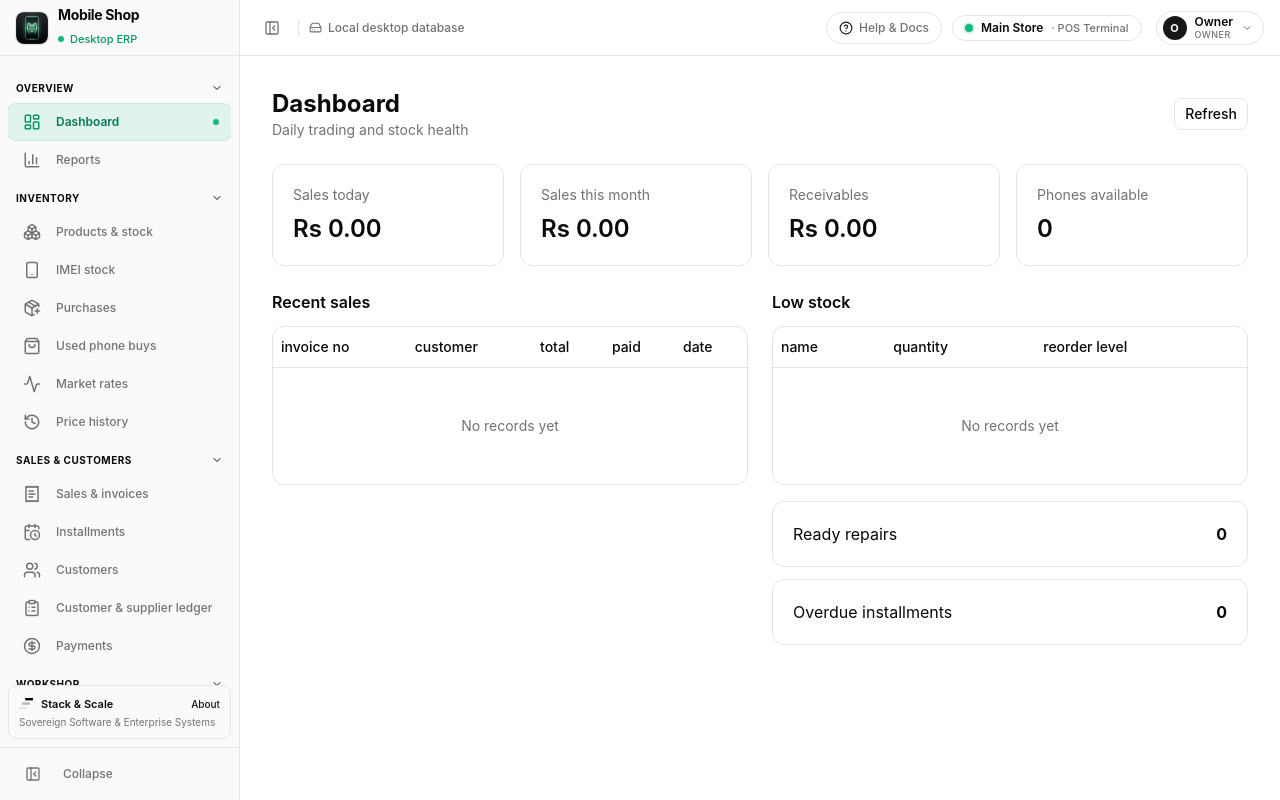
it: desktop interface › clears a customer ledger before switching to a supplier
Expected: the text "Sales today" is shown, [293,186,370,203]
Click the button "Customer & supplier ledger": [120, 608] box [8,590,231,626]
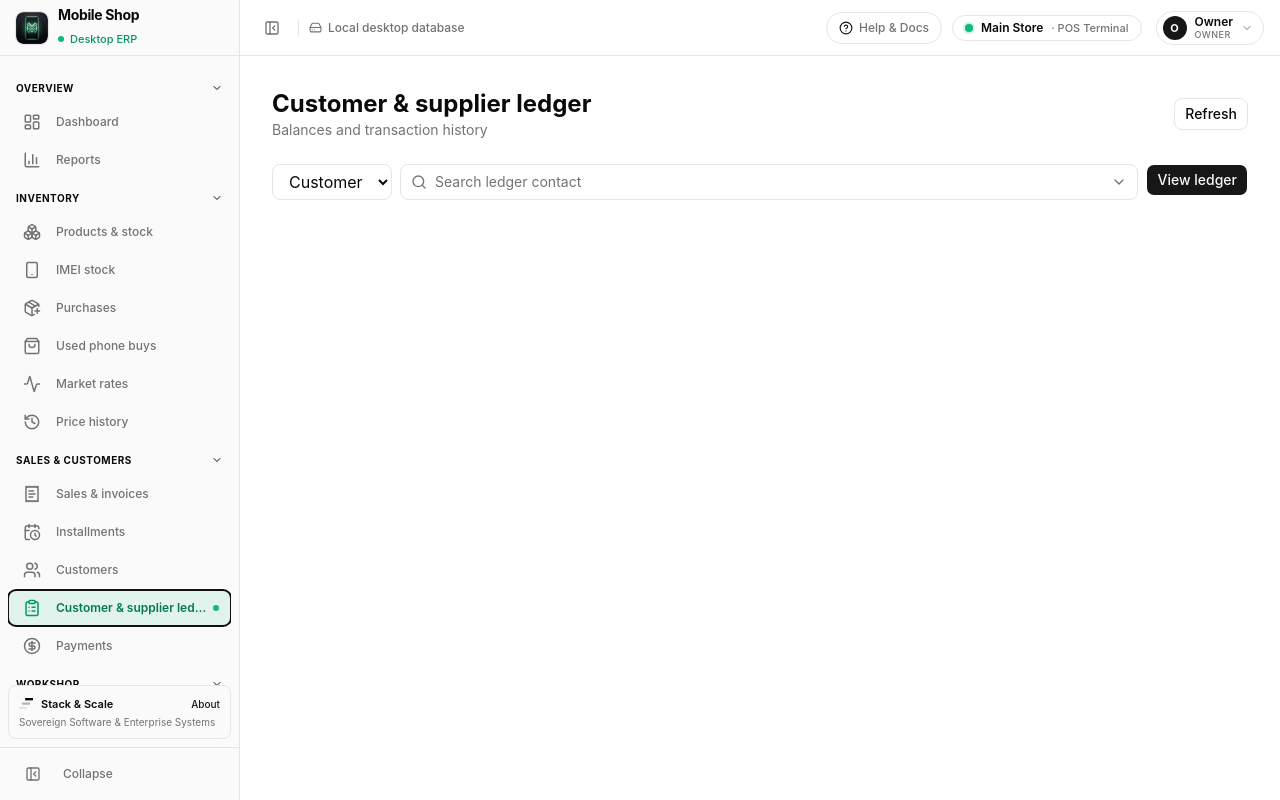
Click the dropdown labelled "ledger contact": [769, 182] box [435,172,1104,192]
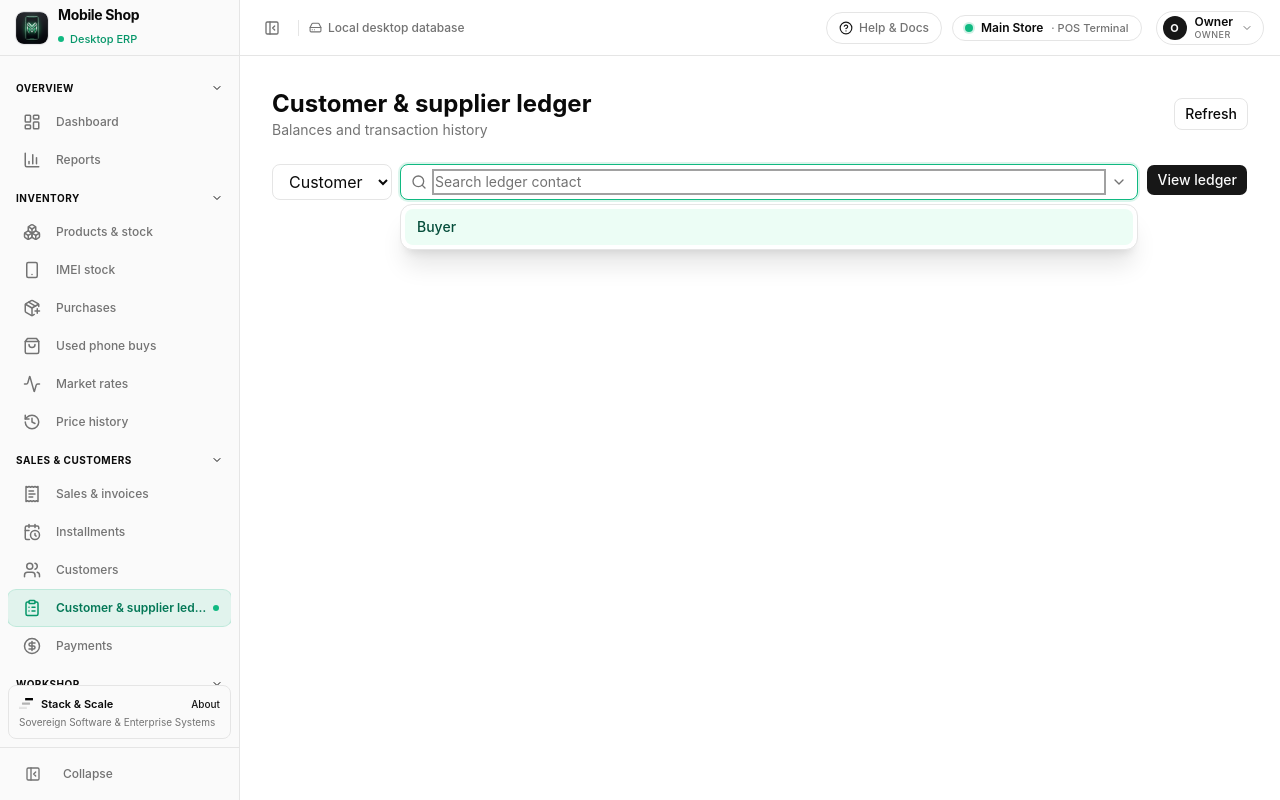
Click the option "Buyer": [437, 226] box [405,209,1134,245]
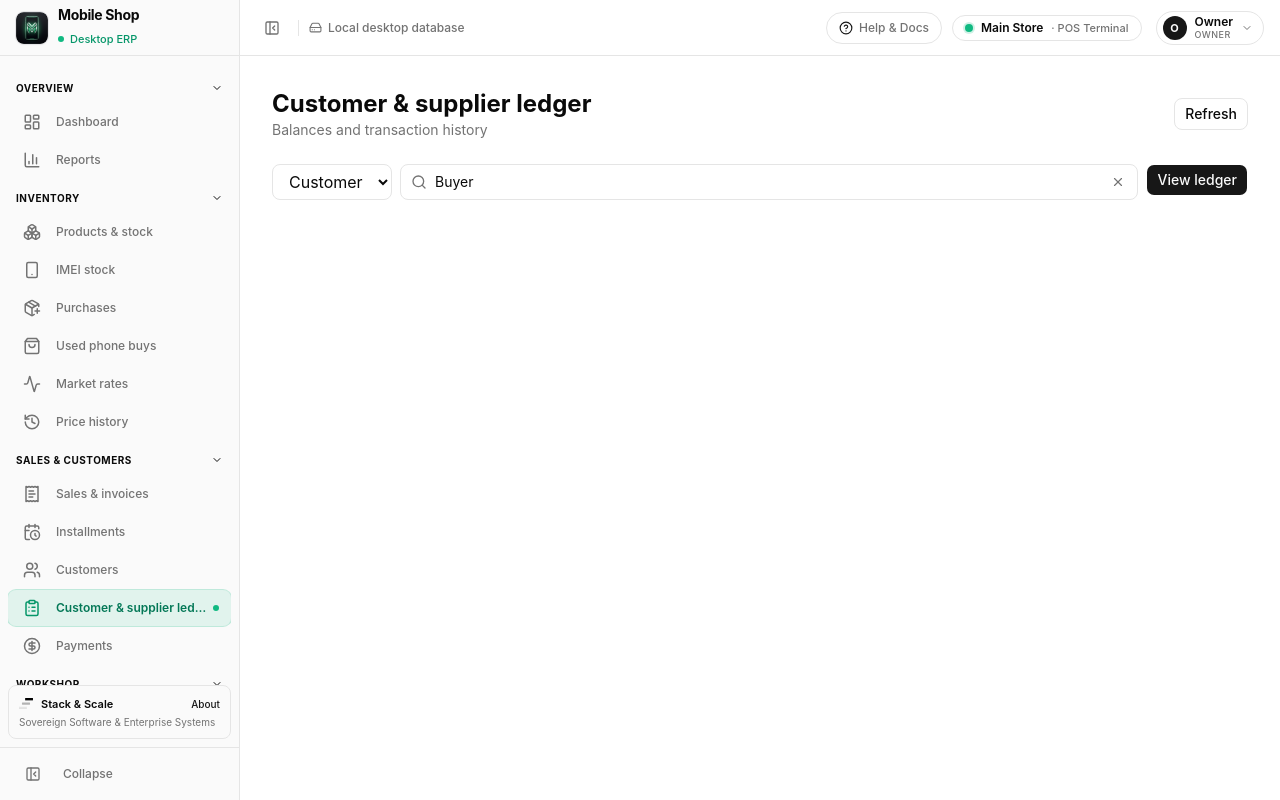
Click the button "View ledger": [1197, 180] box [1146,164,1248,196]
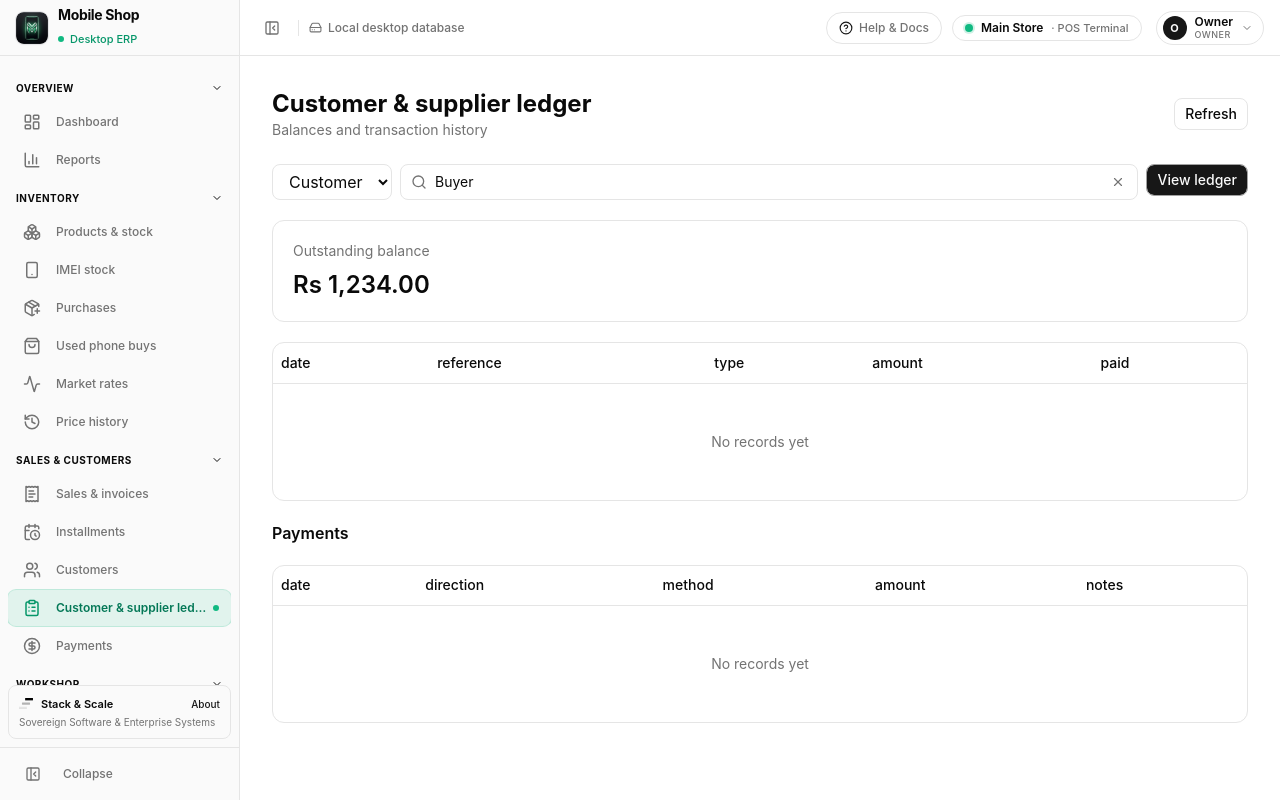
Result: the text "Rs 1,234.00" is shown at [293,270,430,299]
Select "Supplier" in the dropdown named "Ledger type": [332, 182] box [272,164,392,200]
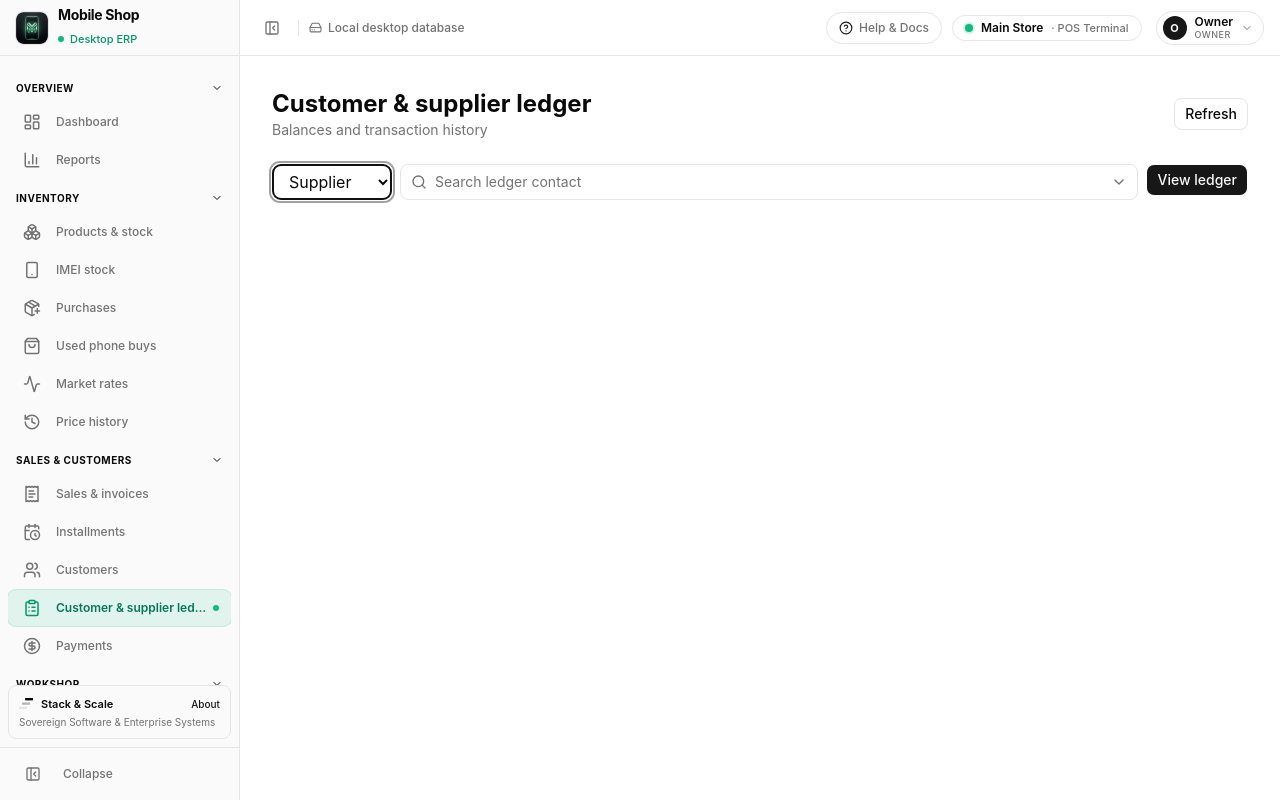
Result: the text "1,234" is gone
Result: the dropdown labelled "ledger contact" is empty at [435,172,1104,192]
